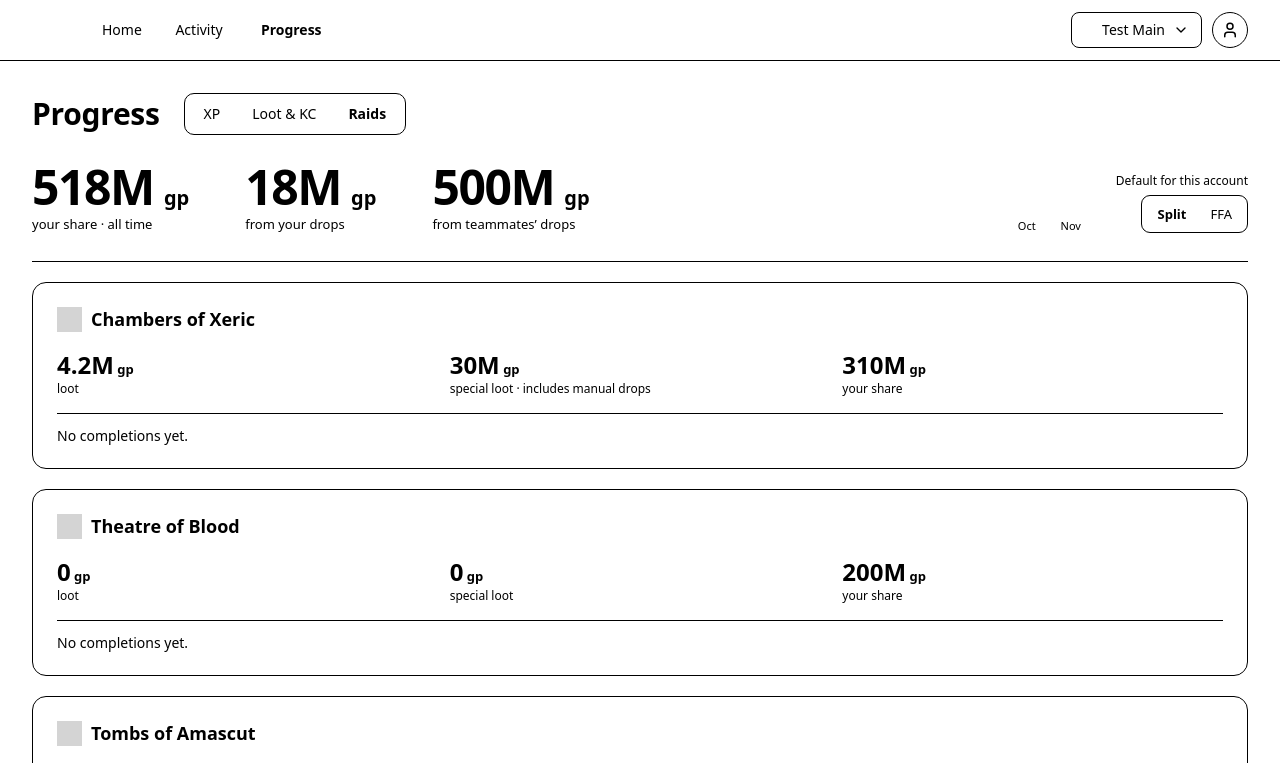
Test case: Raids › the number row › goes back and says so when the default could not be saved
Click the radio button labelled "FFA".
click(1221, 214)  # box [1198, 200, 1244, 230]
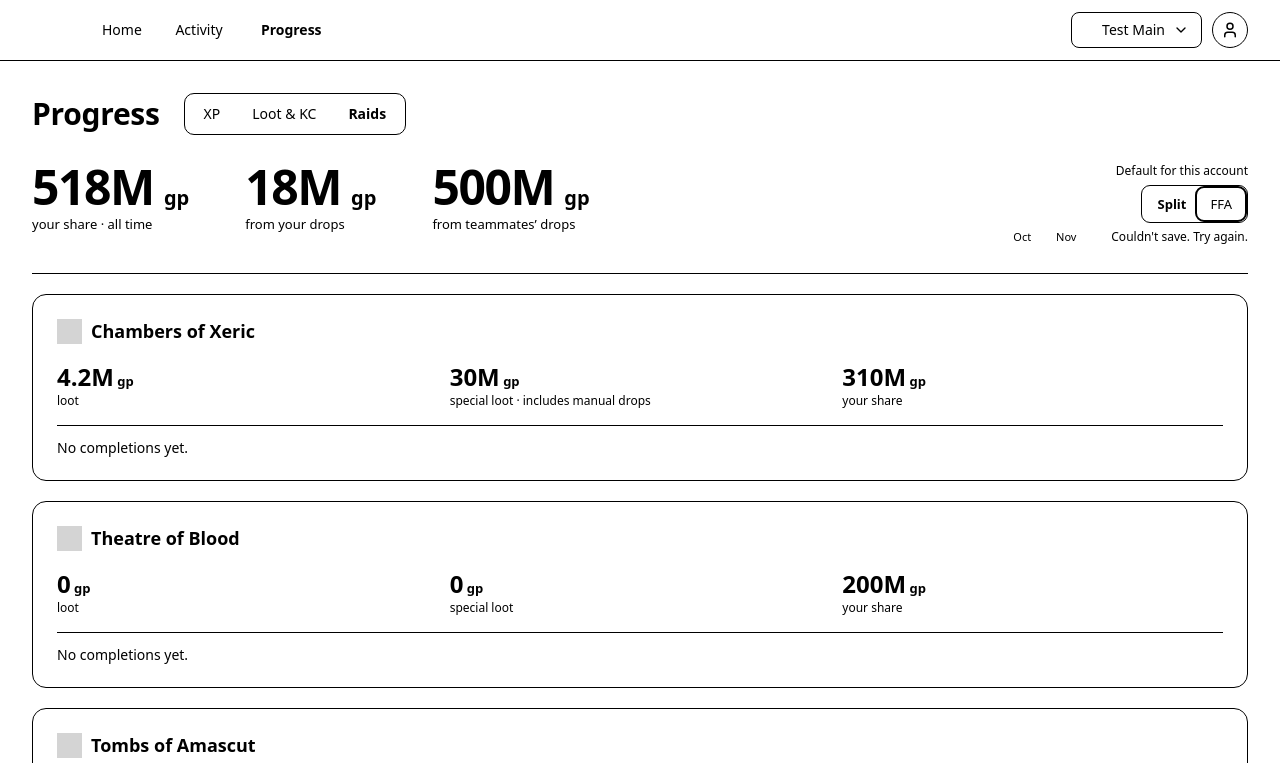
Expected: the text "Couldn't save. Try again." is shown, [1111, 229, 1248, 245]
